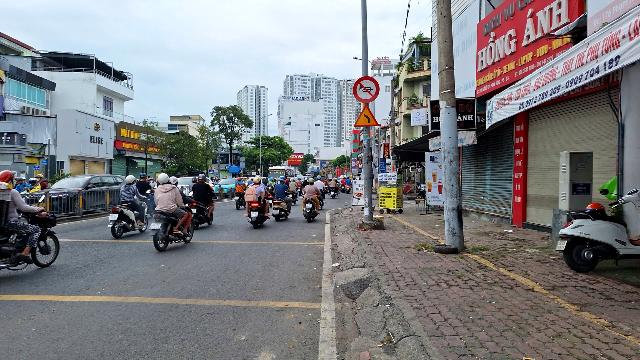cam-bop-coi: (352, 76, 380, 103)
cho-ngoat-nguy-hiem-ben-trai: (354, 105, 379, 127)
